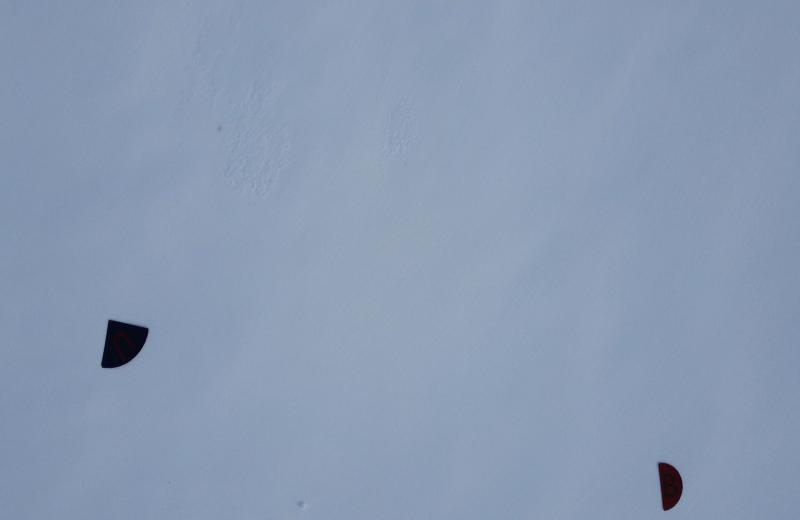Quarter Circle: (100, 319, 149, 369)
Semi Circle: (658, 458, 684, 513)
